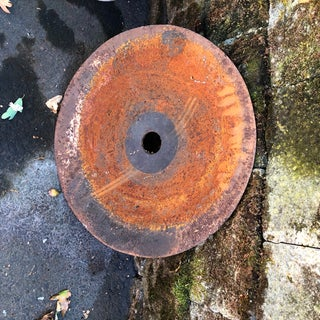rust: (131, 55, 207, 112), (88, 90, 124, 189), (188, 123, 219, 199), (135, 180, 177, 218)
